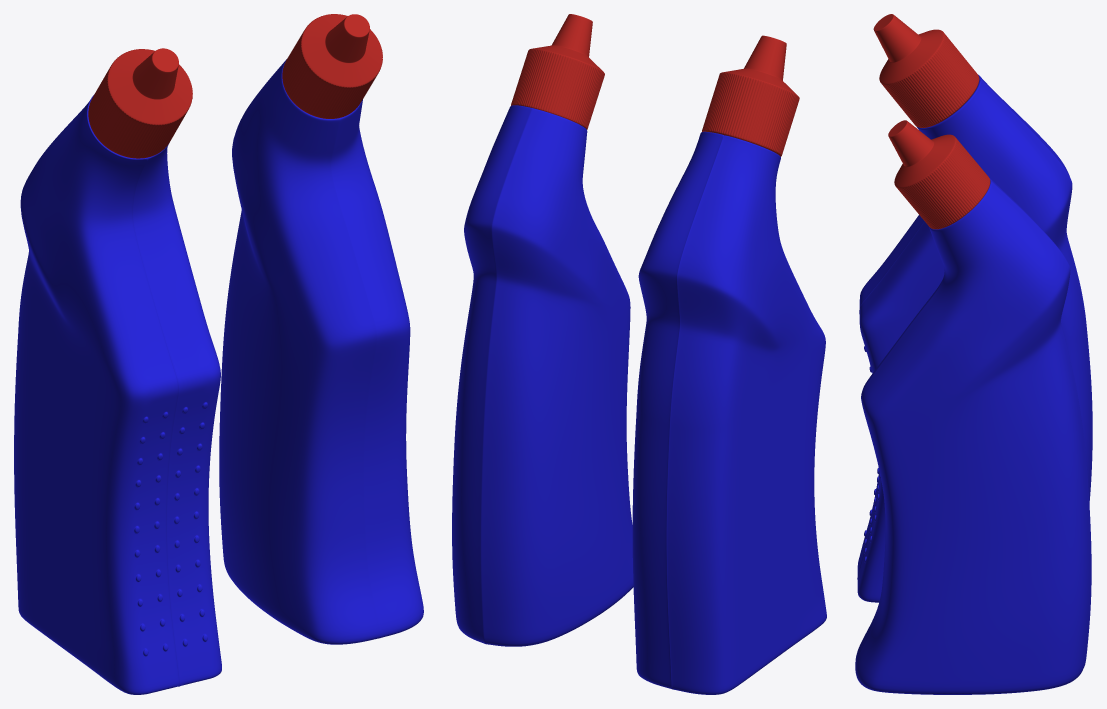
Rendered from detersivi_sgabuzzino.fbx.
3 views of the same model, side by side, from view 1: azimuth 30°, elevation 25°; view 2: azimuth 150°, elevation 25°; view 3: azimuth 270°, elevation 25° (orthographic). The views are drawn at different scales.
Visible parts, largest first — view 1: Toilet_Cleaner_Bottle_b, Toilet_Cleaner_Bottle_a, Cover_b, Cover_a; view 2: Toilet_Cleaner_Bottle_b, Toilet_Cleaner_Bottle_a, Cover_b, Cover_a; view 3: Toilet_Cleaner_Bottle_a, Toilet_Cleaner_Bottle_b, Cover_b, Cover_a.
Part boxes in pixels (x1=…): Toilet_Cleaner_Bottle_b: x1=14, y1=94, x2=221, y2=694; Toilet_Cleaner_Bottle_a: x1=219, y1=59, x2=423, y2=644; Cover_b: x1=88, y1=48, x2=192, y2=158; Cover_a: x1=282, y1=14, x2=382, y2=118; Toilet_Cleaner_Bottle_b: x1=632, y1=131, x2=826, y2=694; Toilet_Cleaner_Bottle_a: x1=452, y1=105, x2=633, y2=646; Cover_b: x1=702, y1=35, x2=799, y2=156; Cover_a: x1=511, y1=14, x2=604, y2=129; Toilet_Cleaner_Bottle_a: x1=855, y1=178, x2=1091, y2=694; Toilet_Cleaner_Bottle_b: x1=857, y1=74, x2=1092, y2=602; Cover_b: x1=873, y1=14, x2=979, y2=127; Cover_a: x1=888, y1=120, x2=990, y2=229.
Bounding box in the file's own units: 16.12 × 29.95 × 11.38.
